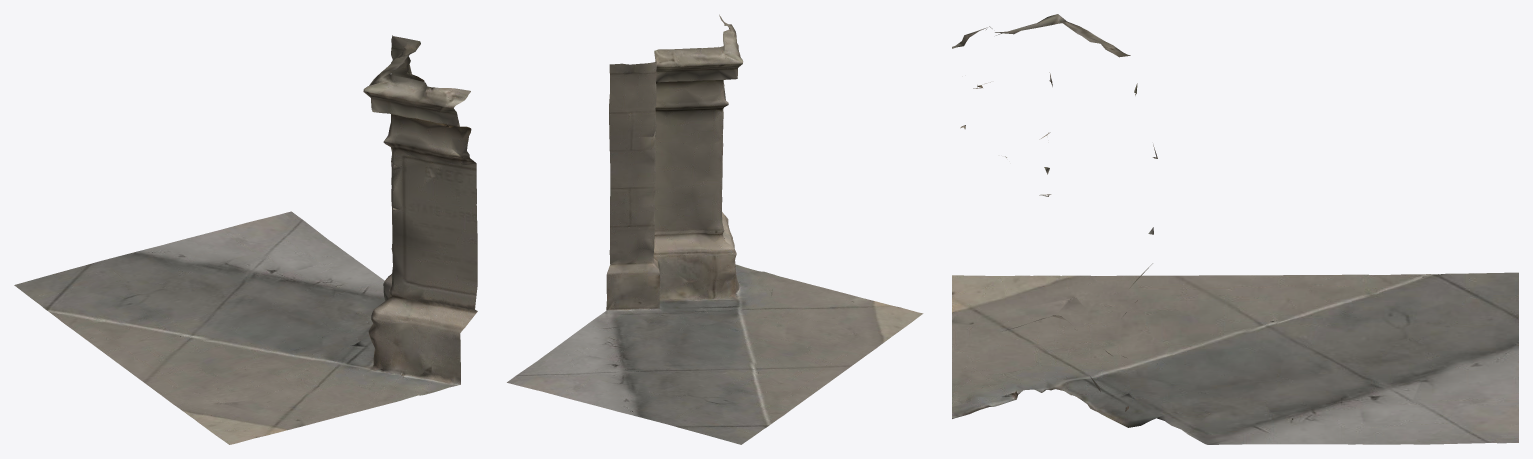
The picture shows the model from 3 angles, left to right: view 1: azimuth 30°, elevation 25°; view 2: azimuth 150°, elevation 25°; view 3: azimuth 270°, elevation 25°; orthographic projection. The views are drawn at different scales.
Size of the model in its own units: 3.08 by 3.14 by 4.13.
1 material, 1 textured.
